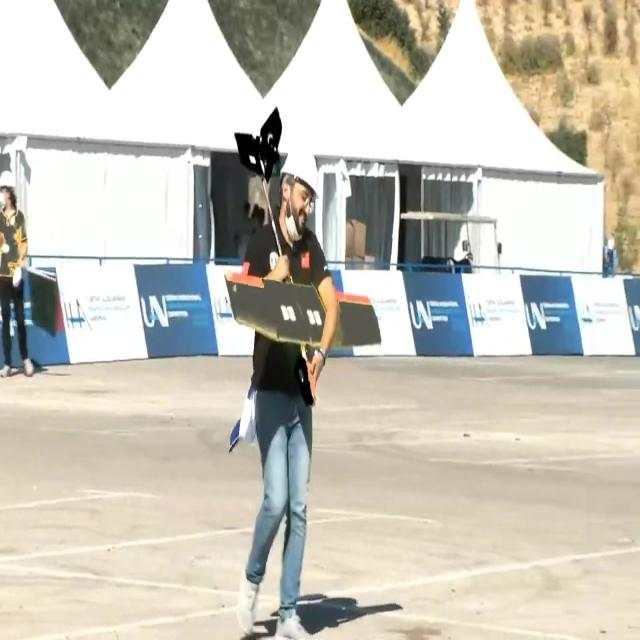iha: (222, 104, 382, 408)
